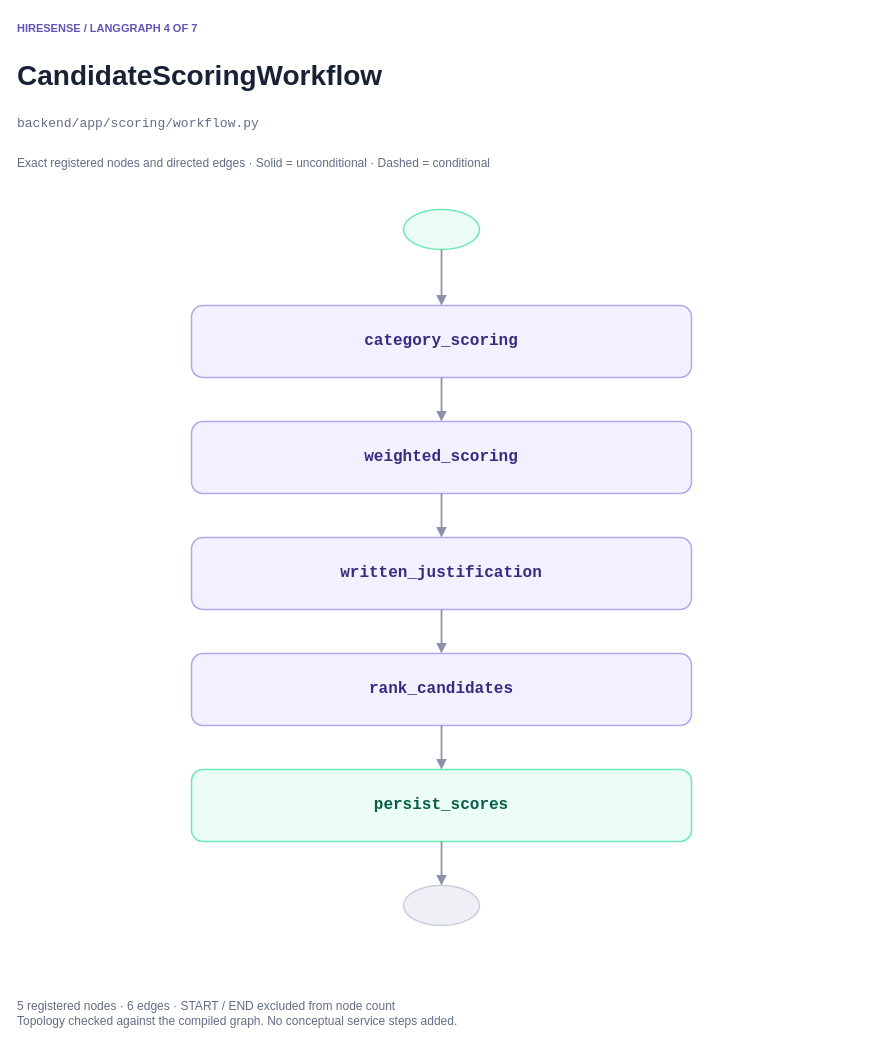
Some shapes in this 882 by 1058 pixel diagram are drawn without their labels. Each missing label, with the box of its shape:
END: (402, 884, 480, 926)
START: (402, 208, 480, 250)
